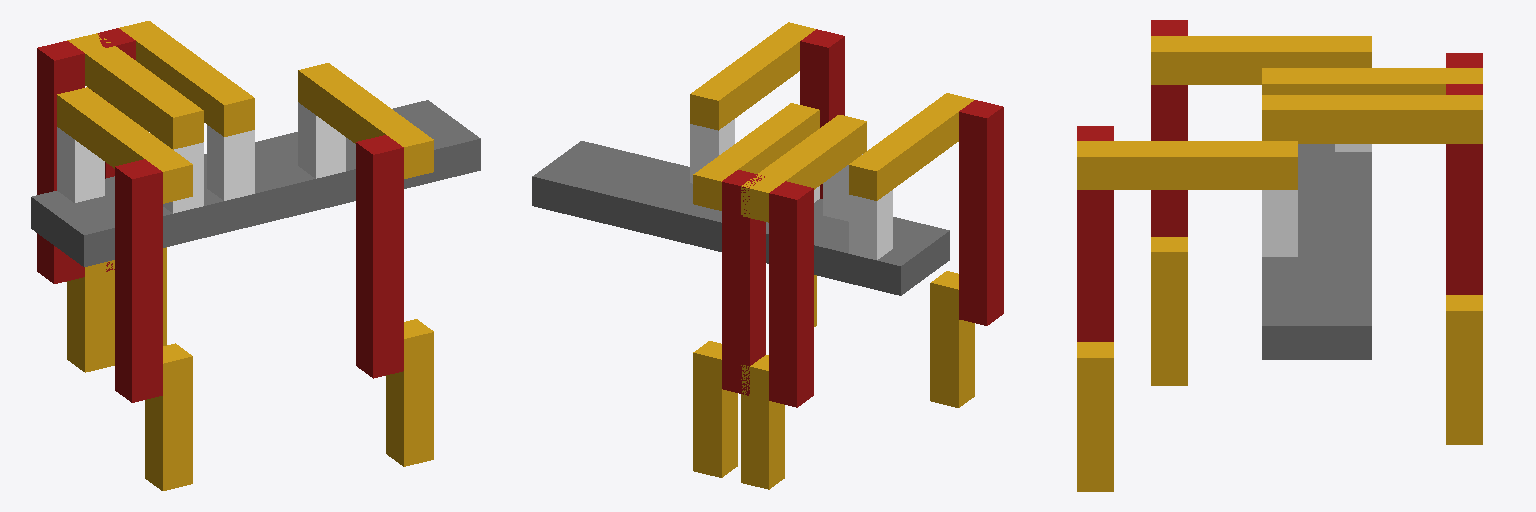
URDF robot description (v0):
<?xml version="1.0" encoding="utf-8"?>
<!-- =================================================================================== -->
<!-- |    This document was autogenerated by xacro from ../robots/v0variants/xacros/v0_4l_22.xacro | -->
<!-- |    EDITING THIS FILE BY HAND IS NOT RECOMMENDED                                 | -->
<!-- =================================================================================== -->
<robot name="v0">
  <material name="grey">
    <color rgba="0.5 0.5 0.5 1"/>
  </material>
  <material name="white">
    <color rgba="1 1 1 1"/>
  </material>
  <material name="yellow">
    <color rgba="0.91 0.7 0.14 1"/>
  </material>
  <material name="red">
    <color rgba="0.71 0.14 0.14 1"/>
  </material>
  <link name="body">
    <visual>
      <geometry>
        <box size="1.3 0.3 0.1"/>
      </geometry>
      <material name="grey"/>
      <origin rpy="0 0 0" xyz="0 0 0.7"/>
    </visual>
    <collision>
      <geometry>
        <box size="1.3 0.3 0.1"/>
      </geometry>
      <origin rpy="0 0 0" xyz="0 0 0.7"/>
    </collision>
    <inertial>
      <mass value="99.84"/>
      <inertia ixx="0.832" ixy="0.0" ixz="0.0" iyy="14.144" iyz="0.0" izz="14.8096"/>
    </inertial>
  </link>
  <link name="l1_segment_1">
    <visual>
      <geometry>
        <box size="0.1 0.1 0.2"/>
      </geometry>
      <material name="white"/>
      <origin rpy="0 0 0" xyz="0 0 0.1"/>
    </visual>
    <collision>
      <geometry>
        <box size="0.1 0.1 0.2"/>
      </geometry>
      <origin rpy="0 0 0" xyz="0 0 0.1"/>
    </collision>
    <inertial>
      <mass value="5.12"/>
      <inertia ixx="0.0213333333333" ixy="0.0" ixz="0.0" iyy="0.0213333333333" iyz="0.0" izz="0.00853333333333"/>
    </inertial>
  </link>
  <joint name="l1_base_to_joint_1" type="fixed">
    <parent link="body"/>
    <child link="l1_segment_1"/>
    <origin rpy="0 0 0" xyz="-0.307950827114881 -0.1 0.75"/>
  </joint>
  <link name="l1_segment_2_HIP">
    <visual>
      <geometry>
        <box size="0.1 0.6 0.1"/>
      </geometry>
      <material name="yellow"/>
      <origin rpy="0 0 0" xyz="0 0.25 0"/>
    </visual>
    <collision>
      <geometry>
        <box size="0.1 0.6 0.1"/>
      </geometry>
      <origin rpy="0 0 0" xyz="0 0.25 0"/>
    </collision>
    <inertial>
      <mass value="15.36"/>
      <inertia ixx="0.4736" ixy="0.0" ixz="0.0" iyy="0.0256" iyz="0.0" izz="0.4736"/>
    </inertial>
  </link>
  <joint name="l1_joint_1_to_2" type="revolute">
    <parent link="l1_segment_1"/>
    <child link="l1_segment_2_HIP"/>
    <origin rpy="0 0 0" xyz="0 0 0.25"/>
    <axis xyz="0.0 0.0 1.0"/>
    <limit effort="2048" lower="-1.2" upper="1.2" velocity="20"/>
  </joint>
  <link name="l1_segment_3_THIGH">
    <visual>
      <geometry>
        <box size="0.1 0.1 0.7"/>
      </geometry>
      <material name="red"/>
      <origin rpy="0 0 0" xyz="0 0 -0.3"/>
    </visual>
    <collision>
      <geometry>
        <box size="0.1 0.1 0.7"/>
      </geometry>
      <origin rpy="0 0 0" xyz="0 0 -0.3"/>
    </collision>
    <inertial>
      <mass value="17.92"/>
      <inertia ixx="0.746666666667" ixy="0.0" ixz="0.0" iyy="0.746666666667" iyz="0.0" izz="0.0298666666667"/>
    </inertial>
  </link>
  <joint name="l1_joint_2_to_3" type="revolute">
    <parent link="l1_segment_2_HIP"/>
    <child link="l1_segment_3_THIGH"/>
    <origin rpy="0 0 0" xyz="-0.1 0.5 0"/>
    <axis xyz="1.0 0.0 0.0"/>
    <limit effort="2048" lower="-0.2" upper="0.75" velocity="20"/>
  </joint>
  <link name="l1_segment_4_FOOT">
    <visual>
      <geometry>
        <box size="0.1 0.1 0.4"/>
      </geometry>
      <material name="yellow"/>
      <origin rpy="0 0 0" xyz="0 0 -0.2"/>
    </visual>
    <collision>
      <geometry>
        <box size="0.1 0.1 0.4"/>
      </geometry>
      <origin rpy="0 0 0" xyz="0 0 -0.2"/>
    </collision>
    <inertial>
      <mass value="10.24"/>
      <inertia ixx="0.145066666667" ixy="0.0" ixz="0.0" iyy="0.145066666667" iyz="0.0" izz="0.0170666666667"/>
    </inertial>
  </link>
  <joint name="l1_joint_3_to_4_FOOT" type="revolute">
    <parent link="l1_segment_3_THIGH"/>
    <child link="l1_segment_4_FOOT"/>
    <origin rpy="0 0 0" xyz="0.1 0 -0.55"/>
    <axis xyz="1.0 0.0 0.0"/>
    <limit effort="2048" lower="-0.2" upper="0.5" velocity="20"/>
  </joint>
  <link name="r2_segment_1">
    <visual>
      <geometry>
        <box size="0.1 0.1 0.2"/>
      </geometry>
      <material name="white"/>
      <origin rpy="0 0 0" xyz="0 0 0.1"/>
    </visual>
    <collision>
      <geometry>
        <box size="0.1 0.1 0.2"/>
      </geometry>
      <origin rpy="0 0 0" xyz="0 0 0.1"/>
    </collision>
    <inertial>
      <mass value="5.12"/>
      <inertia ixx="0.0213333333333" ixy="0.0" ixz="0.0" iyy="0.0213333333333" iyz="0.0" izz="0.00853333333333"/>
    </inertial>
  </link>
  <joint name="r2_base_to_joint_1" type="fixed">
    <parent link="body"/>
    <child link="r2_segment_1"/>
    <origin rpy="0 0 0" xyz="-0.5153371487638344 0.1 0.75"/>
  </joint>
  <link name="r2_segment_2_HIP">
    <visual>
      <geometry>
        <box size="0.1 0.6 0.1"/>
      </geometry>
      <material name="yellow"/>
      <origin rpy="0 0 0" xyz="0 -0.25 0"/>
    </visual>
    <collision>
      <geometry>
        <box size="0.1 0.6 0.1"/>
      </geometry>
      <origin rpy="0 0 0" xyz="0 -0.25 0"/>
    </collision>
    <inertial>
      <mass value="15.36"/>
      <inertia ixx="0.4736" ixy="0.0" ixz="0.0" iyy="0.0256" iyz="0.0" izz="0.4736"/>
    </inertial>
  </link>
  <joint name="r2_joint_1_to_2" type="revolute">
    <parent link="r2_segment_1"/>
    <child link="r2_segment_2_HIP"/>
    <origin rpy="0 0 0" xyz="0 0 0.25"/>
    <axis xyz="0.0 0.0 1.0"/>
    <limit effort="2048" lower="-1.2" upper="1.2" velocity="20"/>
  </joint>
  <link name="r2_segment_3_THIGH">
    <visual>
      <geometry>
        <box size="0.1 0.1 0.7"/>
      </geometry>
      <material name="red"/>
      <origin rpy="0 0 0" xyz="0 0 -0.3"/>
    </visual>
    <collision>
      <geometry>
        <box size="0.1 0.1 0.7"/>
      </geometry>
      <origin rpy="0 0 0" xyz="0 0 -0.3"/>
    </collision>
    <inertial>
      <mass value="17.92"/>
      <inertia ixx="0.746666666667" ixy="0.0" ixz="0.0" iyy="0.746666666667" iyz="0.0" izz="0.0298666666667"/>
    </inertial>
  </link>
  <joint name="r2_joint_2_to_3" type="revolute">
    <parent link="r2_segment_2_HIP"/>
    <child link="r2_segment_3_THIGH"/>
    <origin rpy="0 0 0" xyz="-0.1 -0.5 0"/>
    <axis xyz="1.0 0.0 0.0"/>
    <limit effort="2048" lower="-0.75" upper="0.2" velocity="20"/>
  </joint>
  <link name="r2_segment_4_FOOT">
    <visual>
      <geometry>
        <box size="0.1 0.1 0.4"/>
      </geometry>
      <material name="yellow"/>
      <origin rpy="0 0 0" xyz="0 0 -0.2"/>
    </visual>
    <collision>
      <geometry>
        <box size="0.1 0.1 0.4"/>
      </geometry>
      <origin rpy="0 0 0" xyz="0 0 -0.2"/>
    </collision>
    <inertial>
      <mass value="10.24"/>
      <inertia ixx="0.145066666667" ixy="0.0" ixz="0.0" iyy="0.145066666667" iyz="0.0" izz="0.0170666666667"/>
    </inertial>
  </link>
  <joint name="r2_joint_3_to_4_FOOT" type="revolute">
    <parent link="r2_segment_3_THIGH"/>
    <child link="r2_segment_4_FOOT"/>
    <origin rpy="0 0 0" xyz="0.1 0 -0.55"/>
    <axis xyz="1.0 0.0 0.0"/>
    <limit effort="2048" lower="-0.5" upper="0.2" velocity="20"/>
  </joint>
  <link name="l3_segment_1">
    <visual>
      <geometry>
        <box size="0.1 0.1 0.2"/>
      </geometry>
      <material name="white"/>
      <origin rpy="0 0 0" xyz="0 0 0.1"/>
    </visual>
    <collision>
      <geometry>
        <box size="0.1 0.1 0.2"/>
      </geometry>
      <origin rpy="0 0 0" xyz="0 0 0.1"/>
    </collision>
    <inertial>
      <mass value="5.12"/>
      <inertia ixx="0.0213333333333" ixy="0.0" ixz="0.0" iyy="0.0213333333333" iyz="0.0" izz="0.00853333333333"/>
    </inertial>
  </link>
  <joint name="l3_base_to_joint_1" type="fixed">
    <parent link="body"/>
    <child link="l3_segment_1"/>
    <origin rpy="0 0 0" xyz="-0.1402457385904775 -0.1 0.75"/>
  </joint>
  <link name="l3_segment_2_HIP">
    <visual>
      <geometry>
        <box size="0.1 0.6 0.1"/>
      </geometry>
      <material name="yellow"/>
      <origin rpy="0 0 0" xyz="0 0.25 0"/>
    </visual>
    <collision>
      <geometry>
        <box size="0.1 0.6 0.1"/>
      </geometry>
      <origin rpy="0 0 0" xyz="0 0.25 0"/>
    </collision>
    <inertial>
      <mass value="15.36"/>
      <inertia ixx="0.4736" ixy="0.0" ixz="0.0" iyy="0.0256" iyz="0.0" izz="0.4736"/>
    </inertial>
  </link>
  <joint name="l3_joint_1_to_2" type="revolute">
    <parent link="l3_segment_1"/>
    <child link="l3_segment_2_HIP"/>
    <origin rpy="0 0 0" xyz="0 0 0.25"/>
    <axis xyz="0.0 0.0 1.0"/>
    <limit effort="2048" lower="-1.2" upper="1.2" velocity="20"/>
  </joint>
  <link name="l3_segment_3_THIGH">
    <visual>
      <geometry>
        <box size="0.1 0.1 0.7"/>
      </geometry>
      <material name="red"/>
      <origin rpy="0 0 0" xyz="0 0 -0.3"/>
    </visual>
    <collision>
      <geometry>
        <box size="0.1 0.1 0.7"/>
      </geometry>
      <origin rpy="0 0 0" xyz="0 0 -0.3"/>
    </collision>
    <inertial>
      <mass value="17.92"/>
      <inertia ixx="0.746666666667" ixy="0.0" ixz="0.0" iyy="0.746666666667" iyz="0.0" izz="0.0298666666667"/>
    </inertial>
  </link>
  <joint name="l3_joint_2_to_3" type="revolute">
    <parent link="l3_segment_2_HIP"/>
    <child link="l3_segment_3_THIGH"/>
    <origin rpy="0 0 0" xyz="-0.1 0.5 0"/>
    <axis xyz="1.0 0.0 0.0"/>
    <limit effort="2048" lower="-0.2" upper="0.75" velocity="20"/>
  </joint>
  <link name="l3_segment_4_FOOT">
    <visual>
      <geometry>
        <box size="0.1 0.1 0.4"/>
      </geometry>
      <material name="yellow"/>
      <origin rpy="0 0 0" xyz="0 0 -0.2"/>
    </visual>
    <collision>
      <geometry>
        <box size="0.1 0.1 0.4"/>
      </geometry>
      <origin rpy="0 0 0" xyz="0 0 -0.2"/>
    </collision>
    <inertial>
      <mass value="10.24"/>
      <inertia ixx="0.145066666667" ixy="0.0" ixz="0.0" iyy="0.145066666667" iyz="0.0" izz="0.0170666666667"/>
    </inertial>
  </link>
  <joint name="l3_joint_3_to_4_FOOT" type="revolute">
    <parent link="l3_segment_3_THIGH"/>
    <child link="l3_segment_4_FOOT"/>
    <origin rpy="0 0 0" xyz="0.1 0 -0.55"/>
    <axis xyz="1.0 0.0 0.0"/>
    <limit effort="2048" lower="-0.2" upper="0.5" velocity="20"/>
  </joint>
  <link name="r4_segment_1">
    <visual>
      <geometry>
        <box size="0.1 0.1 0.2"/>
      </geometry>
      <material name="white"/>
      <origin rpy="0 0 0" xyz="0 0 0.1"/>
    </visual>
    <collision>
      <geometry>
        <box size="0.1 0.1 0.2"/>
      </geometry>
      <origin rpy="0 0 0" xyz="0 0 0.1"/>
    </collision>
    <inertial>
      <mass value="5.12"/>
      <inertia ixx="0.0213333333333" ixy="0.0" ixz="0.0" iyy="0.0213333333333" iyz="0.0" izz="0.00853333333333"/>
    </inertial>
  </link>
  <joint name="r4_base_to_joint_1" type="fixed">
    <parent link="body"/>
    <child link="r4_segment_1"/>
    <origin rpy="0 0 0" xyz="0.1590499586926292 -0.1 0.75"/>
  </joint>
  <link name="r4_segment_2_HIP">
    <visual>
      <geometry>
        <box size="0.1 0.6 0.1"/>
      </geometry>
      <material name="yellow"/>
      <origin rpy="0 0 0" xyz="0 -0.25 0"/>
    </visual>
    <collision>
      <geometry>
        <box size="0.1 0.6 0.1"/>
      </geometry>
      <origin rpy="0 0 0" xyz="0 -0.25 0"/>
    </collision>
    <inertial>
      <mass value="15.36"/>
      <inertia ixx="0.4736" ixy="0.0" ixz="0.0" iyy="0.0256" iyz="0.0" izz="0.4736"/>
    </inertial>
  </link>
  <joint name="r4_joint_1_to_2" type="revolute">
    <parent link="r4_segment_1"/>
    <child link="r4_segment_2_HIP"/>
    <origin rpy="0 0 0" xyz="0 0 0.25"/>
    <axis xyz="0.0 0.0 1.0"/>
    <limit effort="2048" lower="-1.2" upper="1.2" velocity="20"/>
  </joint>
  <link name="r4_segment_3_THIGH">
    <visual>
      <geometry>
        <box size="0.1 0.1 0.7"/>
      </geometry>
      <material name="red"/>
      <origin rpy="0 0 0" xyz="0 0 -0.3"/>
    </visual>
    <collision>
      <geometry>
        <box size="0.1 0.1 0.7"/>
      </geometry>
      <origin rpy="0 0 0" xyz="0 0 -0.3"/>
    </collision>
    <inertial>
      <mass value="17.92"/>
      <inertia ixx="0.746666666667" ixy="0.0" ixz="0.0" iyy="0.746666666667" iyz="0.0" izz="0.0298666666667"/>
    </inertial>
  </link>
  <joint name="r4_joint_2_to_3" type="revolute">
    <parent link="r4_segment_2_HIP"/>
    <child link="r4_segment_3_THIGH"/>
    <origin rpy="0 0 0" xyz="-0.1 -0.5 0"/>
    <axis xyz="1.0 0.0 0.0"/>
    <limit effort="2048" lower="-0.75" upper="0.2" velocity="20"/>
  </joint>
  <link name="r4_segment_4_FOOT">
    <visual>
      <geometry>
        <box size="0.1 0.1 0.4"/>
      </geometry>
      <material name="yellow"/>
      <origin rpy="0 0 0" xyz="0 0 -0.2"/>
    </visual>
    <collision>
      <geometry>
        <box size="0.1 0.1 0.4"/>
      </geometry>
      <origin rpy="0 0 0" xyz="0 0 -0.2"/>
    </collision>
    <inertial>
      <mass value="10.24"/>
      <inertia ixx="0.145066666667" ixy="0.0" ixz="0.0" iyy="0.145066666667" iyz="0.0" izz="0.0170666666667"/>
    </inertial>
  </link>
  <joint name="r4_joint_3_to_4_FOOT" type="revolute">
    <parent link="r4_segment_3_THIGH"/>
    <child link="r4_segment_4_FOOT"/>
    <origin rpy="0 0 0" xyz="0.1 0 -0.55"/>
    <axis xyz="1.0 0.0 0.0"/>
    <limit effort="2048" lower="-0.5" upper="0.2" velocity="20"/>
  </joint>
</robot>

--- Facts derived from the render (not from the file) ---
3 views of the same robot in one strip: view 1: azimuth 30°, elevation 25°; view 2: azimuth 150°, elevation 25°; view 3: azimuth 270°, elevation 25° (orthographic).
Model v0 with 17 links and 16 joints (12 revolute, 4 fixed), rooted at body, posed every joint at zero.
Visible links, largest first — view 1: body, r2_segment_3_THIGH, r4_segment_3_THIGH, l1_segment_2_HIP, r4_segment_2_HIP, r2_segment_2_HIP, l3_segment_2_HIP, r4_segment_4_FOOT, r2_segment_4_FOOT, l1_segment_3_THIGH, l1_segment_4_FOOT, l3_segment_1 (+4 smaller); view 2: body, l1_segment_3_THIGH, r2_segment_3_THIGH, l3_segment_3_THIGH, r4_segment_2_HIP, r2_segment_2_HIP, l1_segment_2_HIP, r2_segment_4_FOOT, l3_segment_4_FOOT, l3_segment_2_HIP, l1_segment_4_FOOT, r4_segment_3_THIGH (+3 smaller); view 3: body, r4_segment_2_HIP, l3_segment_2_HIP, r2_segment_2_HIP, r4_segment_3_THIGH, l3_segment_3_THIGH, l1_segment_2_HIP, l3_segment_4_FOOT, r4_segment_4_FOOT, r2_segment_4_FOOT, r2_segment_3_THIGH, r4_segment_1 (+1 smaller).
Boxes of the visible links, <box> form: body: <box>31,100,480,266</box>; r2_segment_3_THIGH: <box>115,159,162,402</box>; r4_segment_3_THIGH: <box>356,135,403,378</box>; l1_segment_2_HIP: <box>67,33,203,149</box>; r4_segment_2_HIP: <box>298,63,433,178</box>; r2_segment_2_HIP: <box>57,87,192,203</box>; l3_segment_2_HIP: <box>119,21,254,136</box>; r4_segment_4_FOOT: <box>386,319,433,466</box>; r2_segment_4_FOOT: <box>145,343,192,490</box>; l1_segment_3_THIGH: <box>37,41,84,283</box>; l1_segment_4_FOOT: <box>67,260,114,372</box>; l3_segment_1: <box>207,125,254,200</box>; body: <box>532,141,949,295</box>; l1_segment_3_THIGH: <box>769,181,813,407</box>; r2_segment_3_THIGH: <box>959,100,1003,325</box>; l3_segment_3_THIGH: <box>722,170,765,395</box>; r4_segment_2_HIP: <box>690,22,815,130</box>; r2_segment_2_HIP: <box>849,93,973,200</box>; l1_segment_2_HIP: <box>741,115,866,222</box>; r2_segment_4_FOOT: <box>930,271,974,407</box>; l3_segment_4_FOOT: <box>693,341,737,477</box>; l3_segment_2_HIP: <box>693,103,819,210</box>; l1_segment_4_FOOT: <box>741,355,784,489</box>; r4_segment_3_THIGH: <box>800,29,844,198</box>; body: <box>1262,144,1371,359</box>; r4_segment_2_HIP: <box>1077,141,1297,189</box>; l3_segment_2_HIP: <box>1262,95,1482,143</box>; r2_segment_2_HIP: <box>1151,36,1371,84</box>; r4_segment_3_THIGH: <box>1077,126,1113,341</box>; l3_segment_3_THIGH: <box>1446,84,1482,294</box>; l1_segment_2_HIP: <box>1262,68,1482,94</box>; l3_segment_4_FOOT: <box>1446,295,1482,444</box>; r4_segment_4_FOOT: <box>1077,342,1113,491</box>; r2_segment_4_FOOT: <box>1151,237,1187,385</box>; r2_segment_3_THIGH: <box>1151,20,1187,236</box>; r4_segment_1: <box>1262,190,1297,256</box>.
Bounding box of the posed robot: 1.32 × 1.1 × 1 m (x, y, z).
Geometry: primitives only (box / cylinder / sphere), no mesh files.